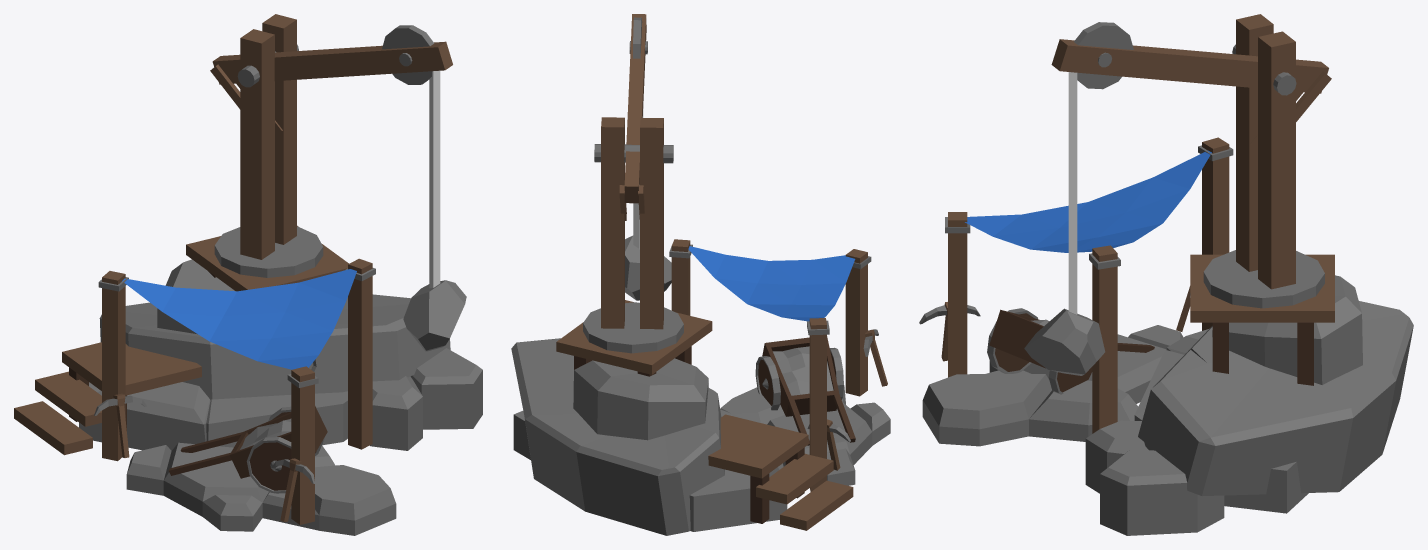
Rendered from Quarry LvL 3.fbx.
3 renders of one model, left to right at view 1: azimuth 30°, elevation 25°; view 2: azimuth 150°, elevation 25°; view 3: azimuth 270°, elevation 25°, orthographic. The views are drawn at different scales.
Visible parts, largest first — view 1: Quarry.002, TeamColorObj; view 2: Quarry.002, TeamColorObj; view 3: Quarry.002, TeamColorObj.
Part boxes in pixels (x1,y1,x2,y2): Quarry.002: (14,14,482,535); TeamColorObj: (122,269,356,369); Quarry.002: (511,14,890,535); TeamColorObj: (688,246,855,321); Quarry.002: (919,14,1413,535); TeamColorObj: (965,150,1211,252).
Bounding box in the file's own units: 161 × 172 × 165.
